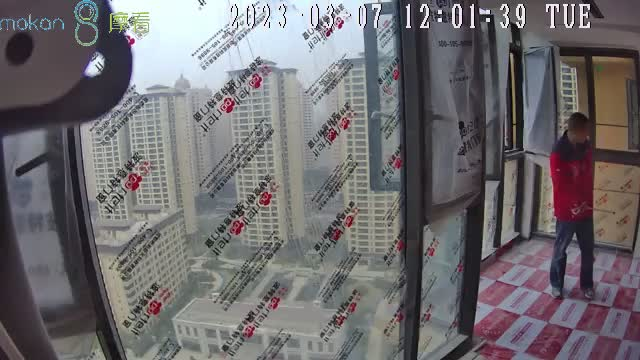people: (551, 112, 596, 299)
window: (1, 1, 481, 360), (484, 23, 638, 253)
